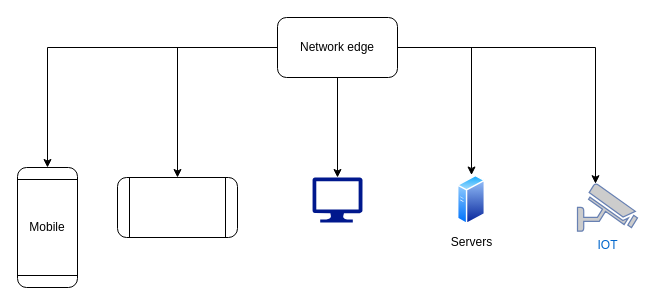
Image size: 656x305. Some labels were removed from this diagram. The shapes that lost their labels are listed below. From the top down, each one's box as (x1, y1, x2, y2) in pixels, then its label:
(116, 176, 238, 238): Tablet
(312, 177, 362, 222): Computers
